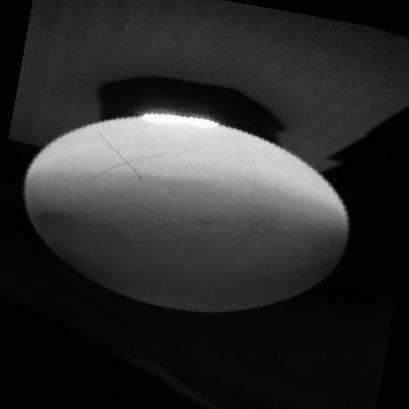telur: (19, 104, 353, 320)
